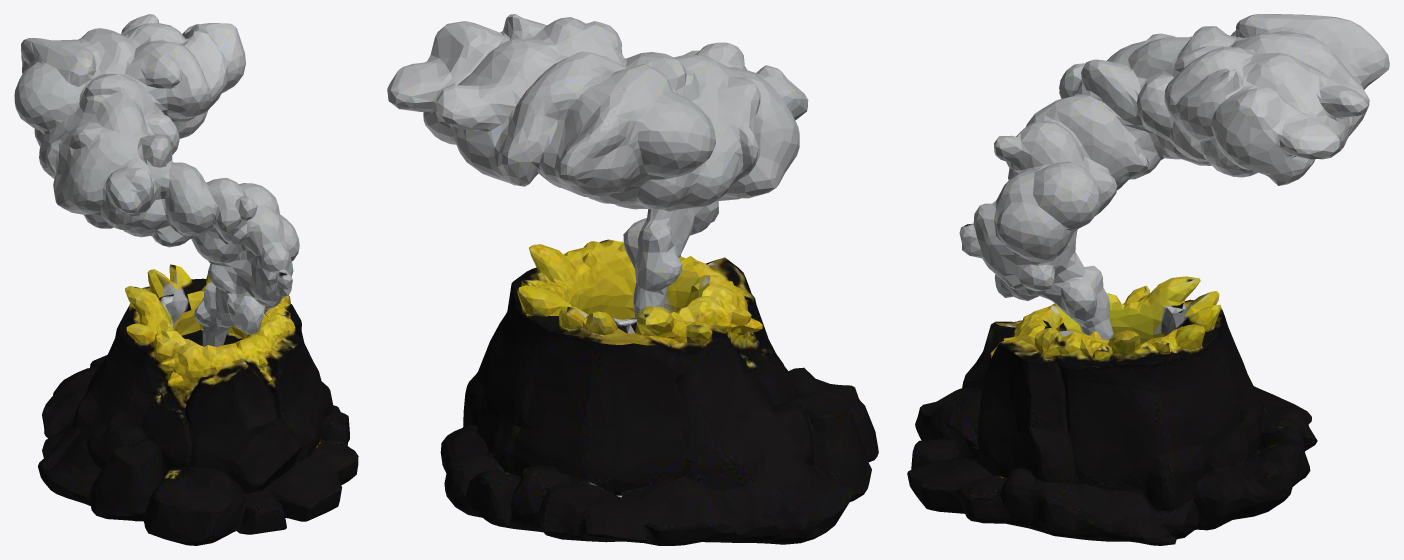
File: steam_vent.glb
3 renders of one model, left to right at view 1: azimuth 30°, elevation 25°; view 2: azimuth 150°, elevation 25°; view 3: azimuth 270°, elevation 25°, orthographic. The views are drawn at different scales.
Visible parts, largest first — view 1: tmp9_gu52w7.ply; view 2: tmp9_gu52w7.ply; view 3: tmp9_gu52w7.ply.
Part boxes in pixels (bbox=[...]): tmp9_gu52w7.ply: bbox=[14, 14, 358, 545]; tmp9_gu52w7.ply: bbox=[387, 14, 878, 545]; tmp9_gu52w7.ply: bbox=[907, 14, 1389, 545].
Size of the model in its own units: 1.51 by 2 by 1.96.
Materials: 1 (1 with a texture image).
